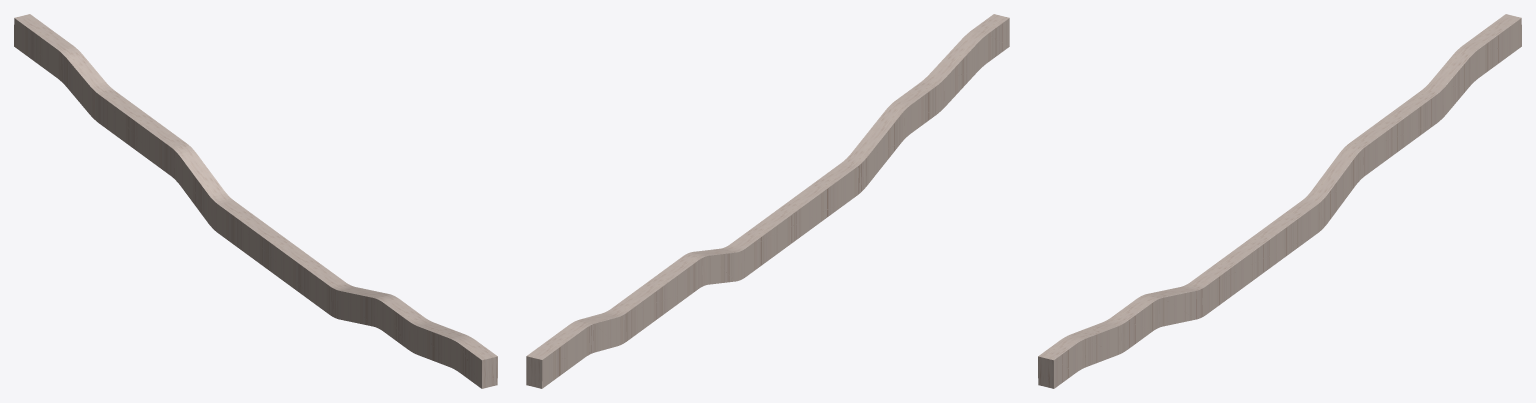
File: road4.fbx
3 renders of one model, left to right at view 1: azimuth 30°, elevation 25°; view 2: azimuth 150°, elevation 25°; view 3: azimuth 330°, elevation 25°, orthographic.
Visible parts, largest first — view 1: Plane.004; view 2: Plane.004; view 3: Plane.004.
Boxes of the visible parts, left/top/right/bottom form: Plane.004: left=14, top=14, right=497, bottom=388; Plane.004: left=526, top=14, right=1009, bottom=388; Plane.004: left=1038, top=14, right=1521, bottom=388.
Size of the model in its own units: 9.83 by 38.97 by 500.
Materials: 1 (1 with a texture image).
